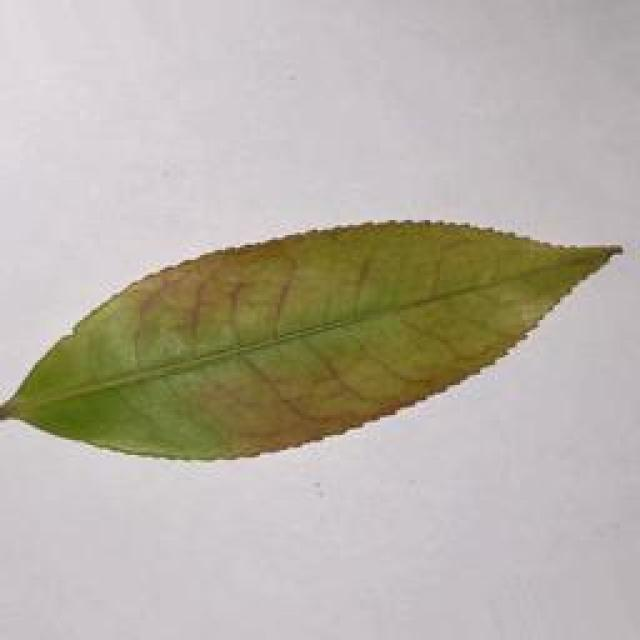Red Leaf Spot: (0, 199, 616, 464)
